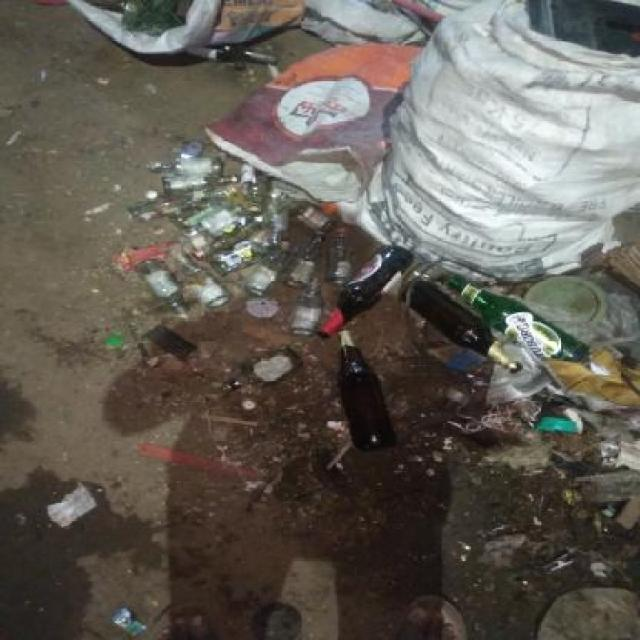garbage: (109, 143, 626, 488), (131, 43, 346, 82), (63, 0, 242, 40)
